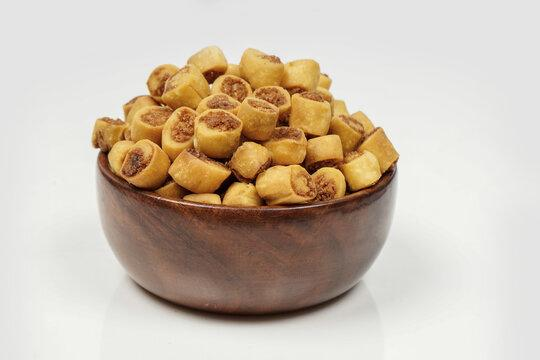bhakarwadi: (90, 45, 401, 211)
